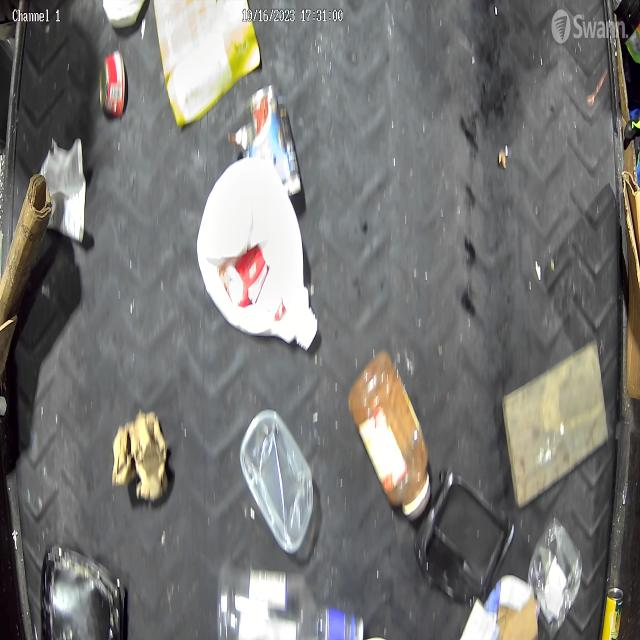can: (249, 85, 303, 195), (98, 46, 130, 126)
milk_jug: (194, 152, 324, 356)
plastic_bottle: (350, 351, 433, 526)
